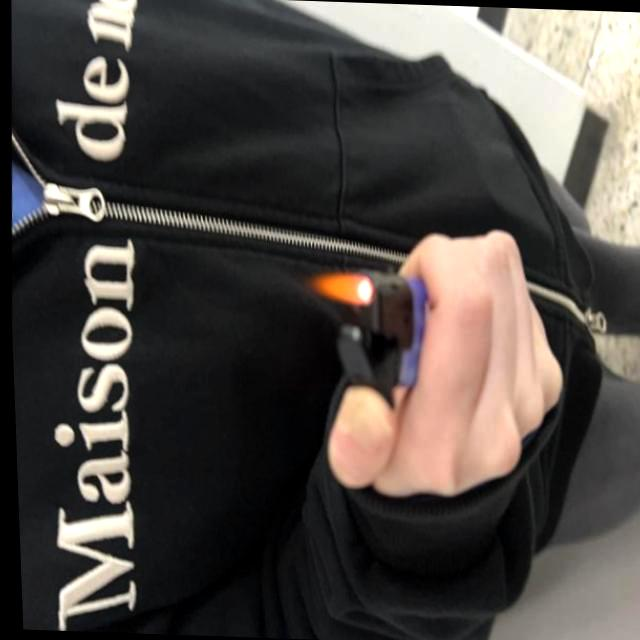fire: (301, 268, 363, 302)
